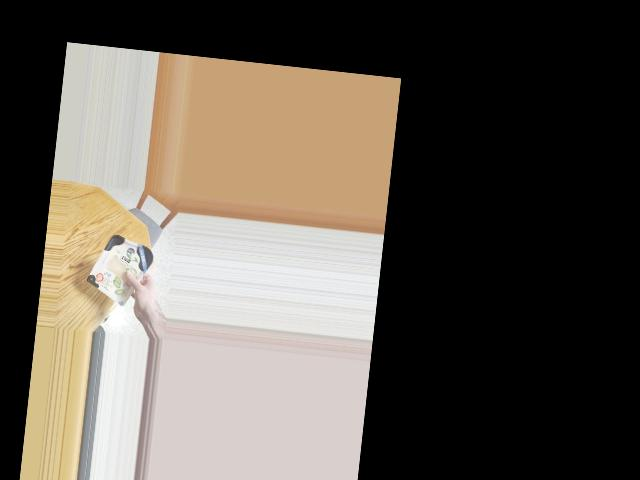cheese: (89, 232, 159, 302)
